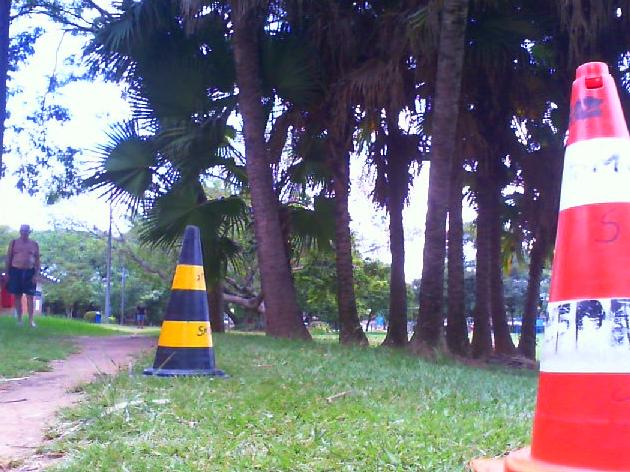0 cone: (468, 61, 630, 472), (141, 224, 229, 379)
